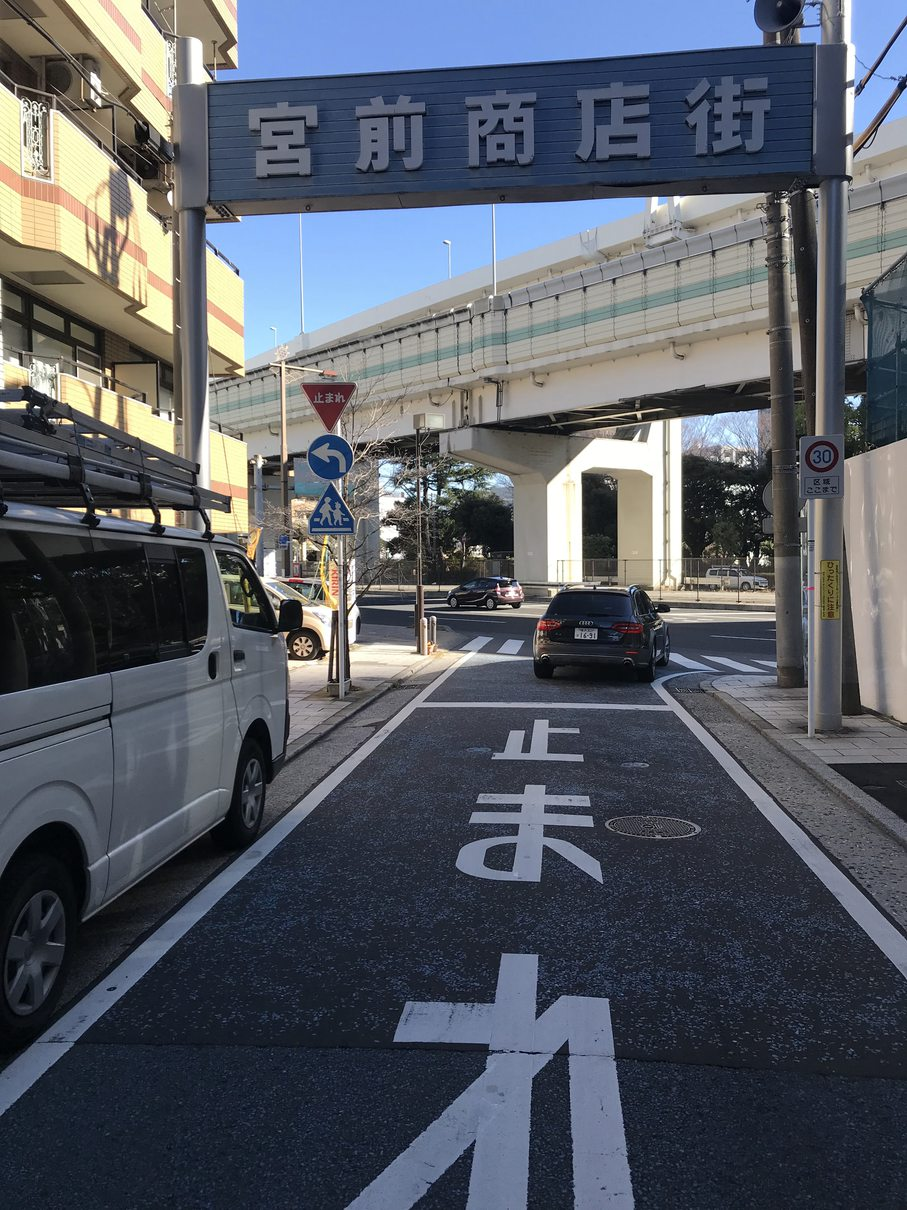stop_sign: (298, 379, 358, 435)
